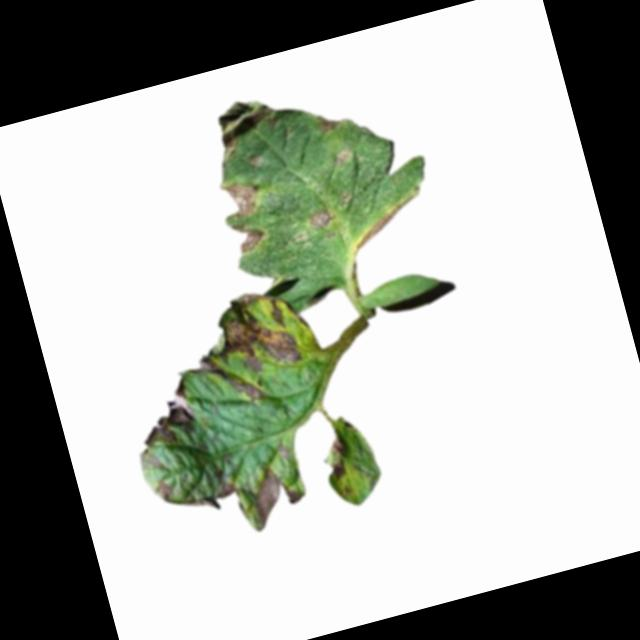Early_blight: (171, 281, 313, 415), (131, 384, 201, 453), (246, 457, 312, 527), (212, 92, 277, 146), (347, 199, 413, 251), (184, 475, 242, 517), (219, 173, 263, 221), (323, 431, 356, 479), (231, 217, 265, 254), (152, 473, 178, 503), (317, 108, 345, 134), (310, 206, 334, 232)
